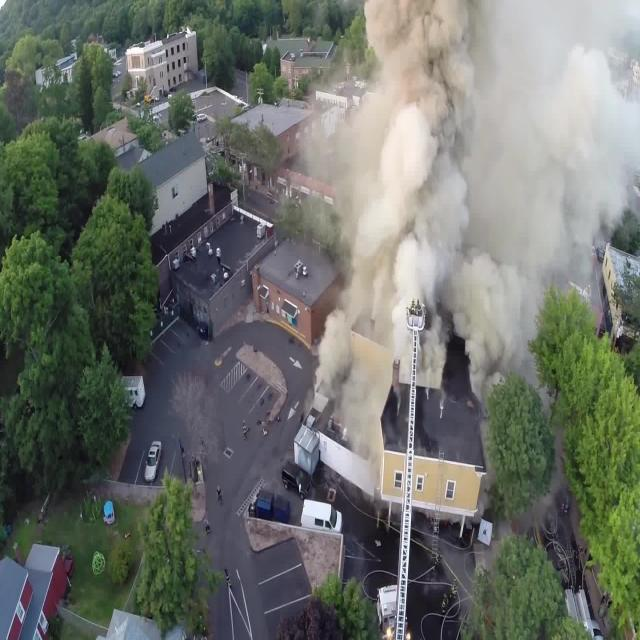Smoke: (312, 0, 640, 404)
